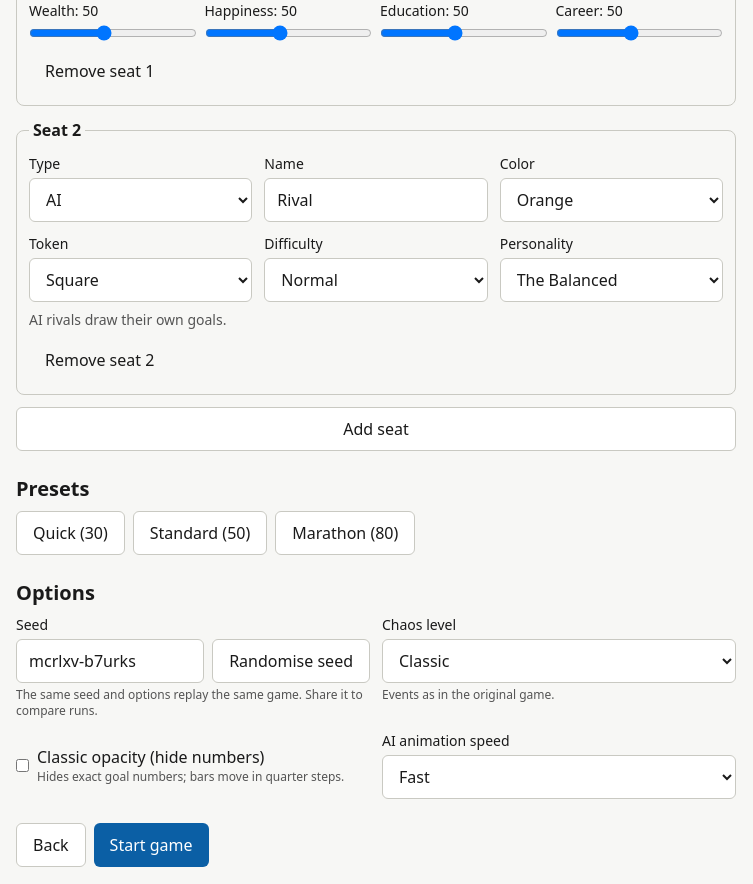
setup screen › disables Start while the draft is invalid
(page scrolled)
Clear the field with test id "seed" at (110, 661), box [16,639,204,683]
(page scrolled)
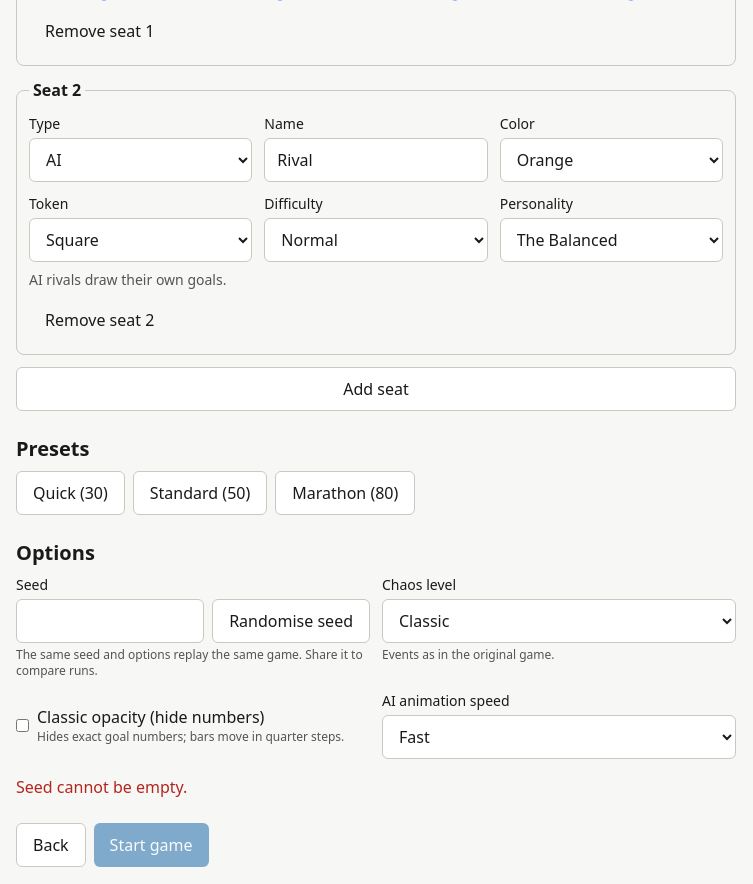
expect the button with test id "start-game" is disabled: met, box [94,823,208,867]
